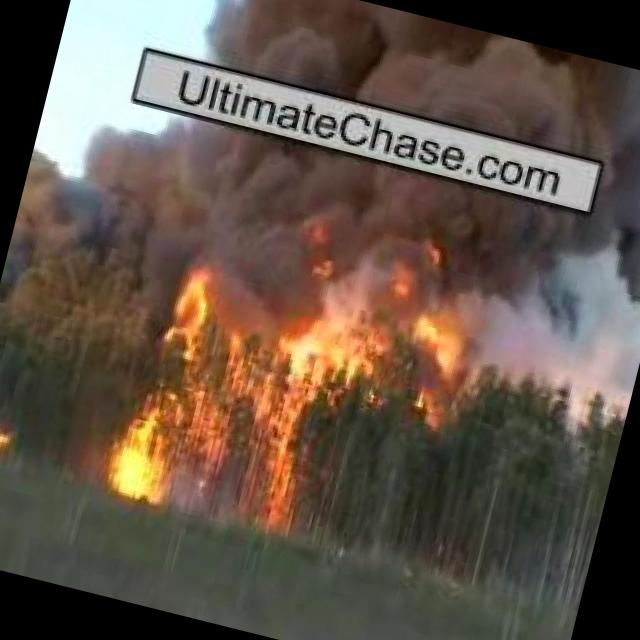Fire: (102, 222, 364, 540), (356, 234, 499, 432), (0, 420, 17, 460)
Smoke: (78, 90, 640, 309), (194, 0, 640, 181)
